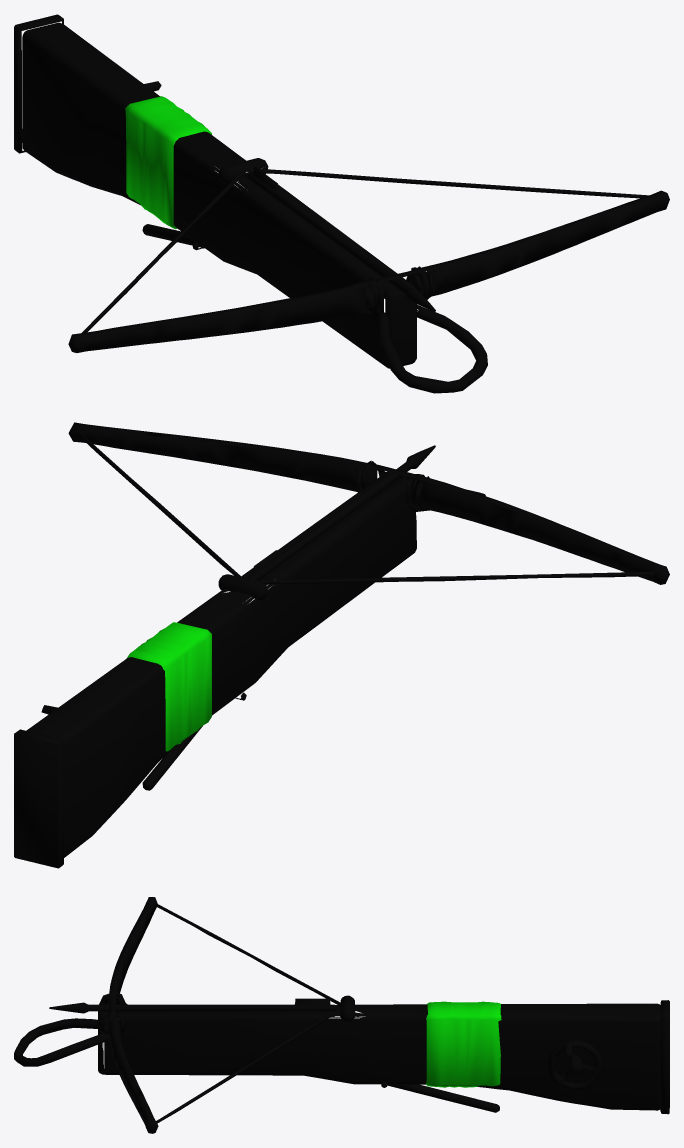
The model's file is crossbow.glb.
3 views of the same model, one above another, from view 1: azimuth 30°, elevation 25°; view 2: azimuth 150°, elevation 25°; view 3: azimuth 270°, elevation 25° (orthographic). The views are drawn at different scales.
Visible parts, largest first — view 1: crossbow; view 2: crossbow; view 3: crossbow.
Part boxes in pixels (x1,y1,x2,y2): crossbow: [14, 14, 669, 393]; crossbow: [14, 422, 669, 868]; crossbow: [14, 897, 669, 1133].
Size of the model in its own units: 0.6762 by 0.1574 by 0.8239.
